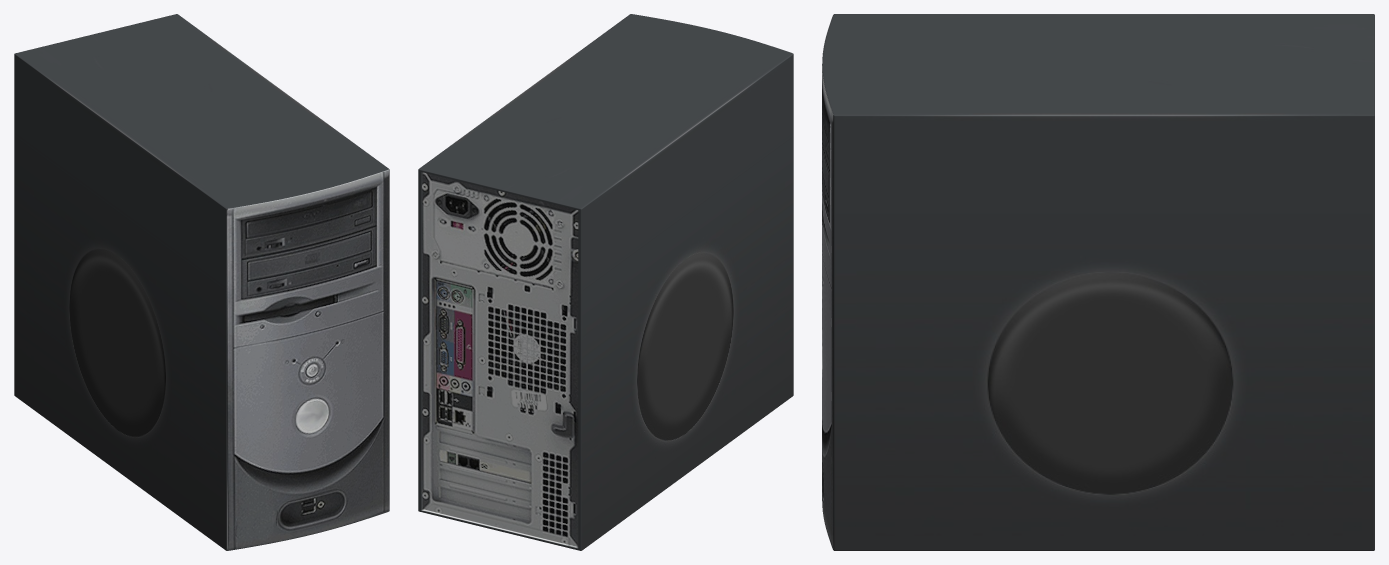
Rendered from Computer -F.fbx.
3 views of the same model, side by side, from view 1: azimuth 30°, elevation 25°; view 2: azimuth 150°, elevation 25°; view 3: azimuth 270°, elevation 25° (orthographic). The views are drawn at different scales.
Visible parts, largest first — view 1: 10104_Computer_CPU_Case; view 2: 10104_Computer_CPU_Case; view 3: 10104_Computer_CPU_Case.
Boxes of the visible parts, x1,y1,x2,y2 form: 10104_Computer_CPU_Case: [14, 14, 389, 550]; 10104_Computer_CPU_Case: [418, 14, 793, 550]; 10104_Computer_CPU_Case: [822, 14, 1374, 550].
Bounding box in the file's own units: 2000 × 4000 × 4595.
